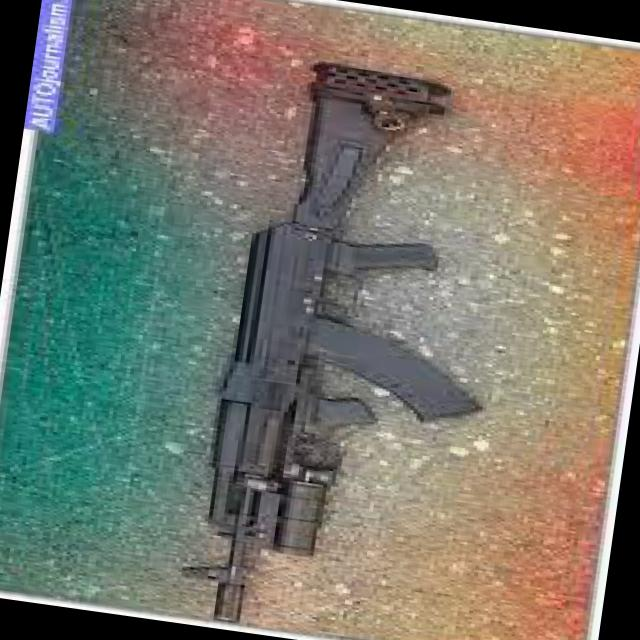long weapon: (164, 48, 446, 640)
